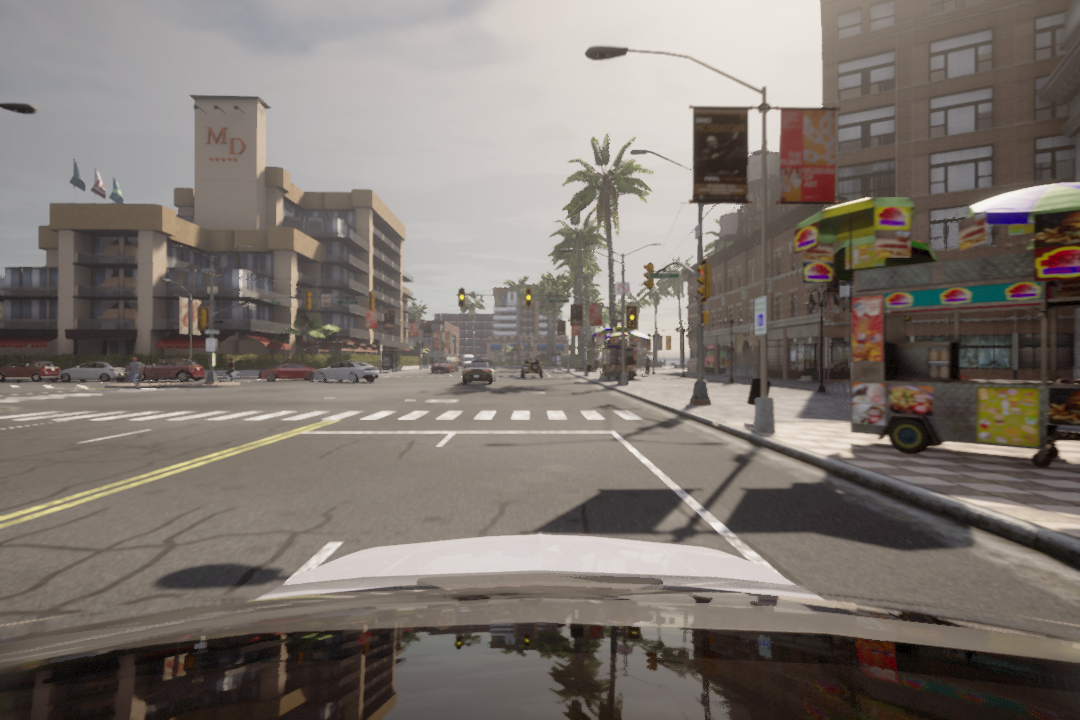TrafficLight: (696, 262, 712, 306), (626, 304, 639, 331), (644, 260, 656, 289), (524, 287, 534, 311), (458, 287, 467, 307)
TrafficSign: (617, 281, 631, 294)
walkside: (11, 409, 665, 426)
